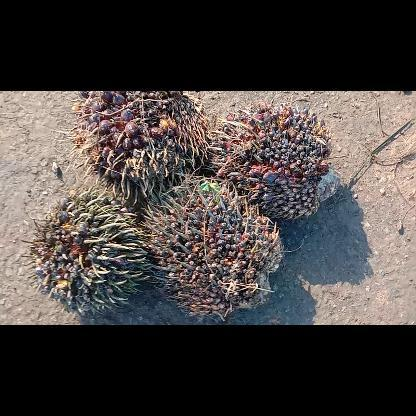TBS abnormal: (138, 170, 286, 322), (21, 183, 157, 317), (202, 102, 342, 223)
TBS masak: (61, 92, 214, 202)
